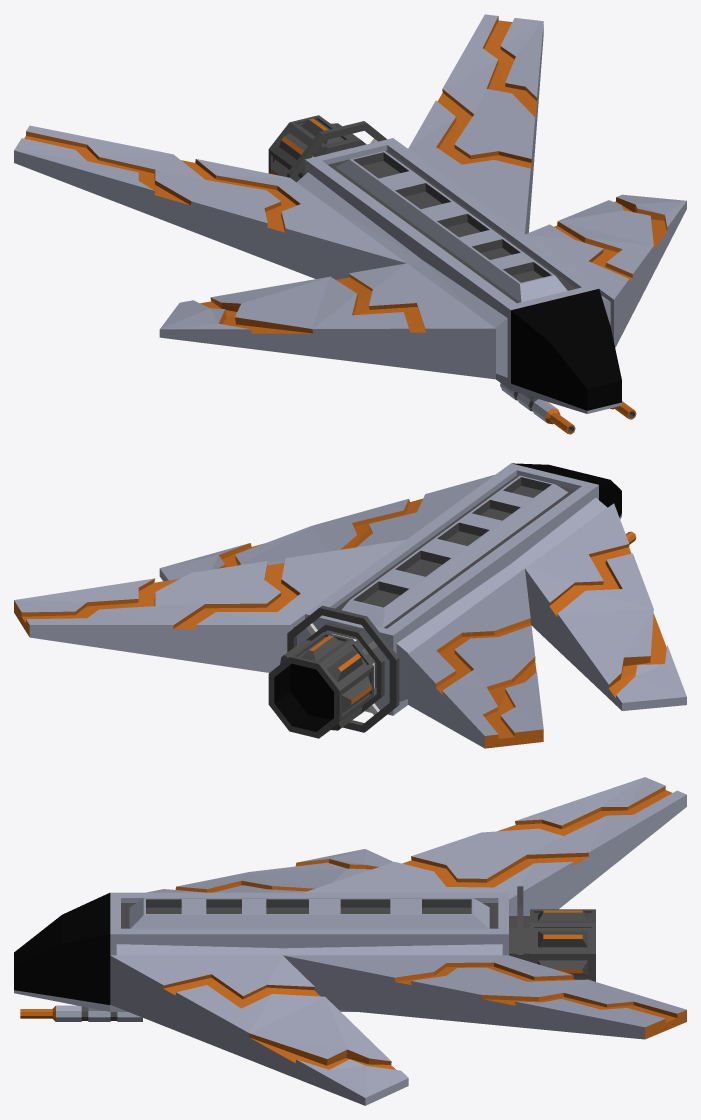
Rendered from Spaceship7_4.fbx.
3 views of the same model, one above another, from view 1: azimuth 30°, elevation 25°; view 2: azimuth 150°, elevation 25°; view 3: azimuth 270°, elevation 25° (orthographic). The views are drawn at different scales.
Parts seen in each view (by area): view 1: Spaceship7_4; view 2: Spaceship7_4; view 3: Spaceship7_4.
Boxes of the visible parts, x1,y1,x2,y2 form: Spaceship7_4: (14, 14, 686, 434); Spaceship7_4: (14, 463, 686, 748); Spaceship7_4: (14, 777, 686, 1105).
Size of the model in its own units: 1036 by 213 by 1177.
